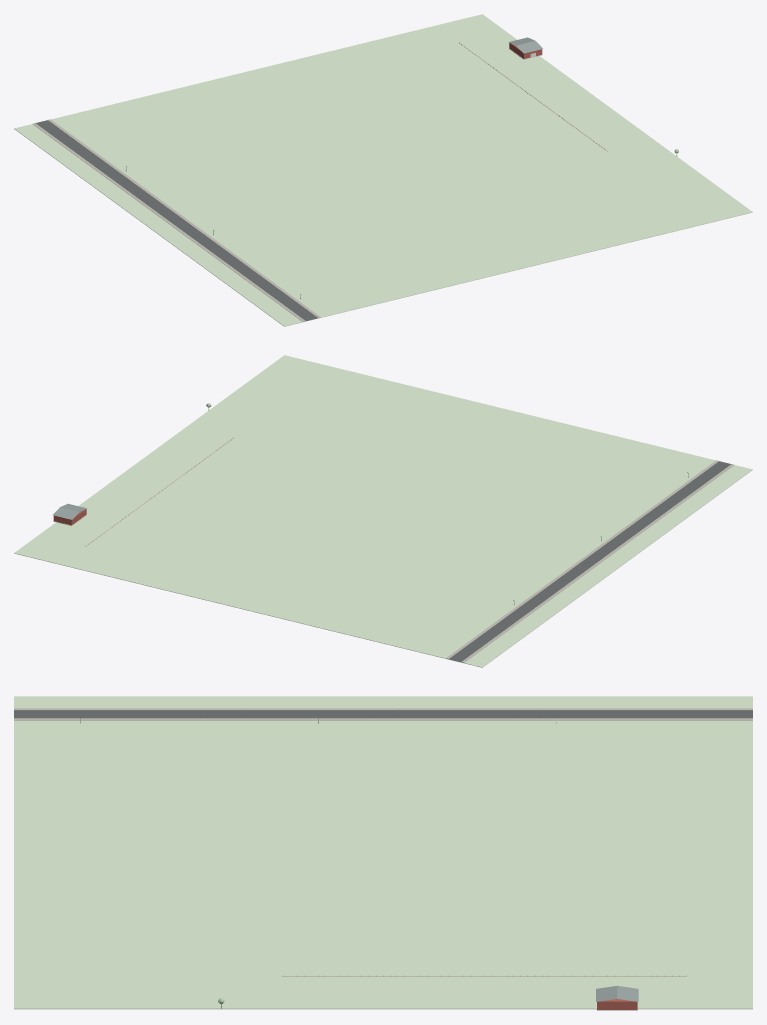
File: chunk_4_6_high.glb
The picture shows the model from 3 angles, top to bottom: view 1: azimuth 30°, elevation 25°; view 2: azimuth 150°, elevation 25°; view 3: azimuth 270°, elevation 25°; orthographic projection. The views are drawn at different scales.
Visible parts, largest first — view 1: city_grass, city_world_asphalt, city_world_sidewalk; view 2: city_grass, city_world_asphalt, city_world_sidewalk; view 3: city_grass, city_world_asphalt, city_world_sidewalk, city_curb, city_roof_slate.
Boxes of the visible parts, x1,y1,x2,y2 form: city_grass: (14,14,752,326); city_world_asphalt: (35,120,317,320); city_world_sidewalk: (32,119,320,321); city_grass: (14,355,752,667); city_world_asphalt: (449,461,731,661); city_world_sidewalk: (446,460,734,662); city_grass: (14,696,752,1009); city_world_asphalt: (14,710,752,718); city_world_sidewalk: (14,708,752,720); city_curb: (14,708,752,719); city_roof_slate: (596,985,638,1001).
Bounding box in the file's own units: 516 × 10 × 512.
